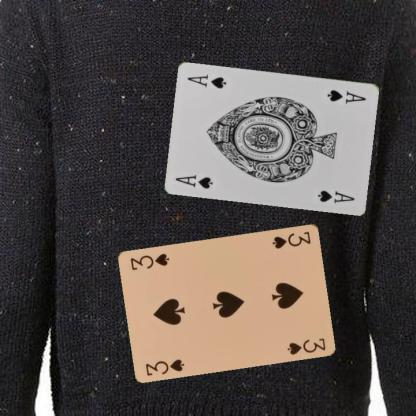3s: (270, 228, 312, 250), (143, 356, 186, 377)
As: (324, 87, 368, 104), (174, 172, 214, 190)
